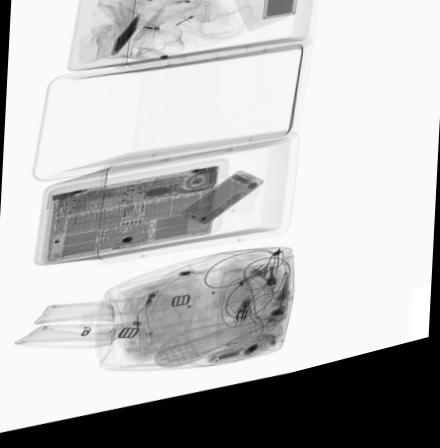Powerbank: (263, 0, 299, 35)
